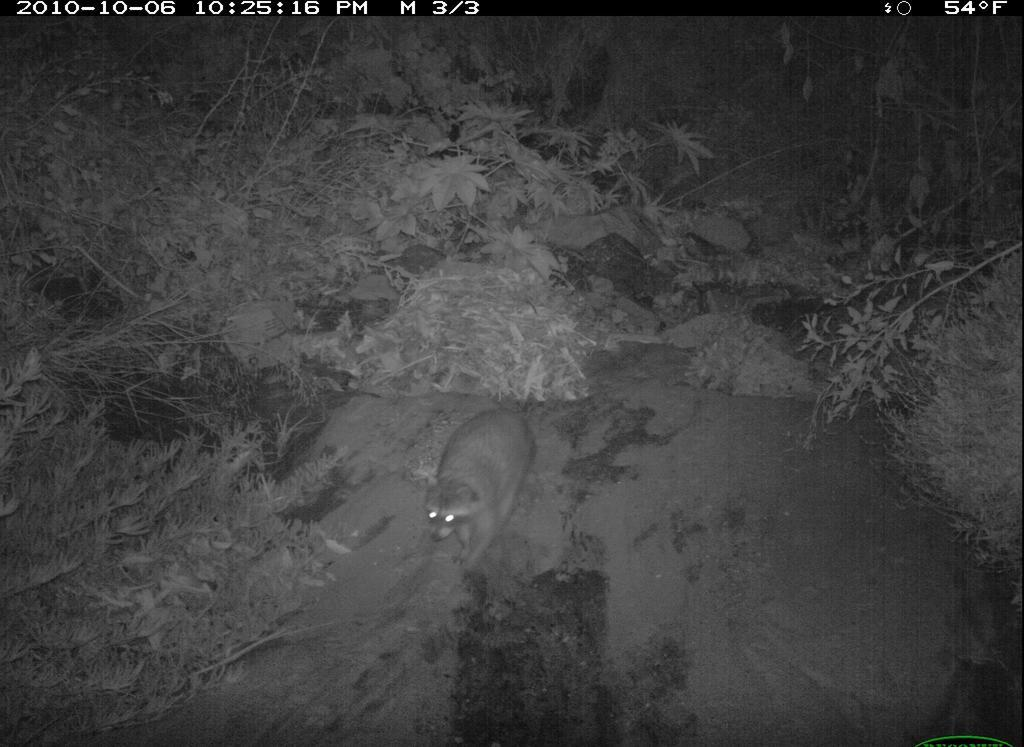raccoon: (414, 401, 543, 587)
